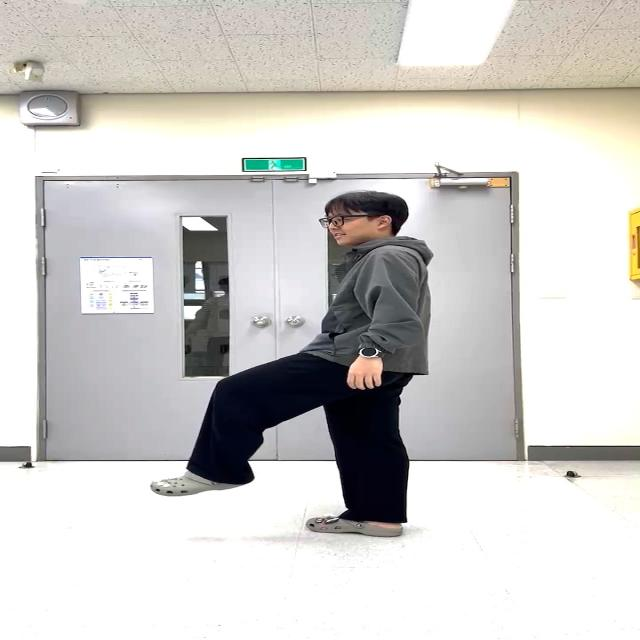leg: (167, 345, 344, 509)
